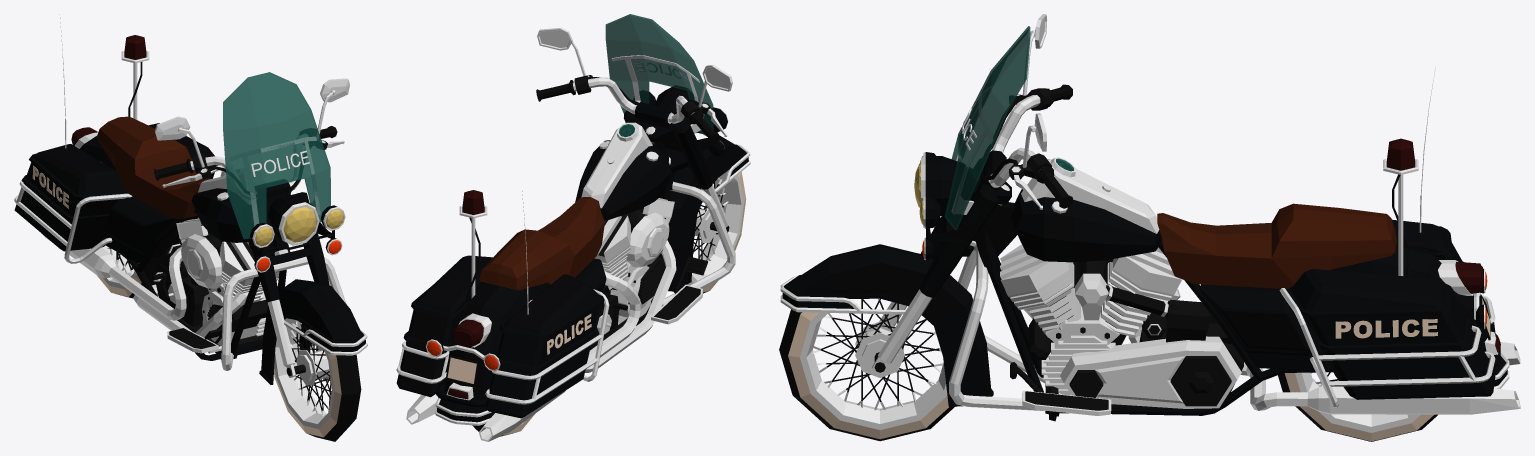
Rendered from PoliceMotorcycle_01.FBX.
3 renders of one model, left to right at view 1: azimuth 30°, elevation 25°; view 2: azimuth 150°, elevation 25°; view 3: azimuth 270°, elevation 25°, orthographic. The views are drawn at different scales.
Visible parts, largest first — view 1: PoliceMotorcycle_01, windshield, saddleBags, motor, wheel_f, saddle, mudguard, exhausts, steering, handlebars, lights-st, headLights (+5 smaller); view 2: PoliceMotorcycle_01, saddleBags, motor, saddle, windshield, exhausts, mudguard, handlebars, wheel_f, steering, lights, lights-st (+5 smaller); view 3: PoliceMotorcycle_01, motor, saddleBags, saddle, wheel_f, mudguard, windshield, exhausts, steering, handlebars, lights-st, wheel_b (+3 smaller).
Boxes of the visible parts, x1,y1,x2,y2 form: PoliceMotorcycle_01: [14, 136, 346, 370]; windshield: [223, 72, 330, 239]; saddleBags: [14, 123, 217, 251]; motor: [152, 217, 279, 353]; wheel_f: [274, 318, 361, 441]; saddle: [97, 116, 210, 218]; mudguard: [259, 279, 367, 384]; exhausts: [41, 233, 248, 337]; steering: [242, 192, 329, 377]; handlebars: [154, 126, 344, 207]; lights-st: [246, 196, 345, 272]; headLights: [255, 206, 343, 246]; PoliceMotorcycle_01: [396, 122, 735, 425]; saddleBags: [396, 255, 604, 418]; motor: [590, 198, 707, 350]; saddle: [479, 197, 604, 290]; windshield: [605, 14, 713, 136]; exhausts: [406, 240, 676, 441]; mudguard: [659, 136, 750, 291]; handlebars: [536, 75, 727, 143]; wheel_f: [674, 171, 746, 293]; steering: [624, 110, 729, 232]; lights: [425, 205, 501, 400]; lights-st: [634, 86, 728, 156]; PoliceMotorcycle_01: [949, 159, 1509, 421]; motor: [1000, 244, 1243, 408]; saddleBags: [1287, 219, 1495, 399]; saddle: [1157, 203, 1396, 288]; wheel_f: [779, 298, 954, 441]; mudguard: [780, 244, 993, 406]; windshield: [944, 26, 1030, 229]; exhausts: [1023, 289, 1520, 414]; steering: [872, 158, 1011, 374]; handlebars: [978, 84, 1072, 209]; lights-st: [921, 152, 980, 260]; wheel_b: [1278, 372, 1437, 441].
Bounding box in the file's own units: 11.44 × 17.97 × 29.51.
